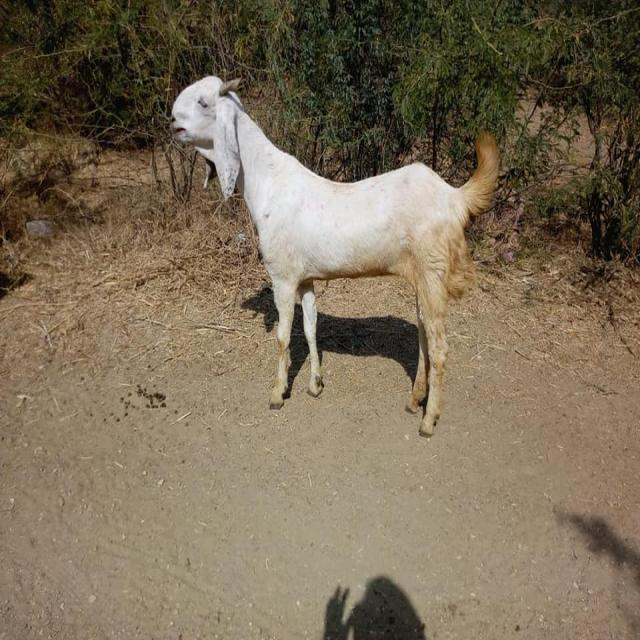Goat: (169, 74, 500, 437)
